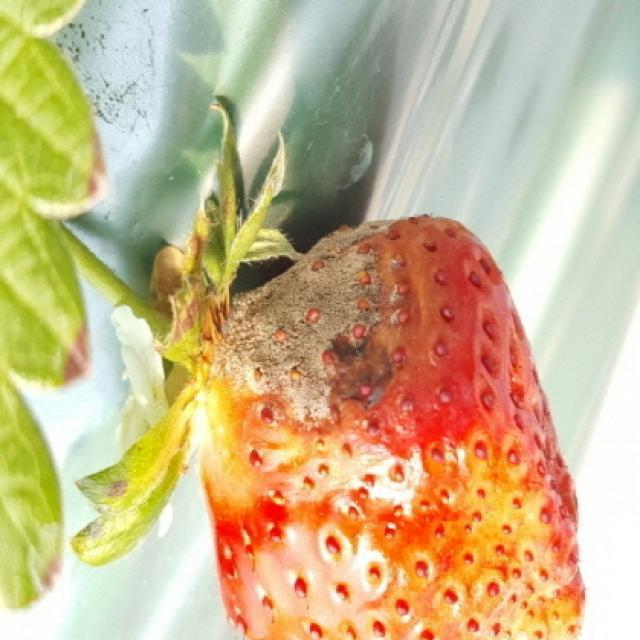Gray Mold: (199, 217, 587, 640)
